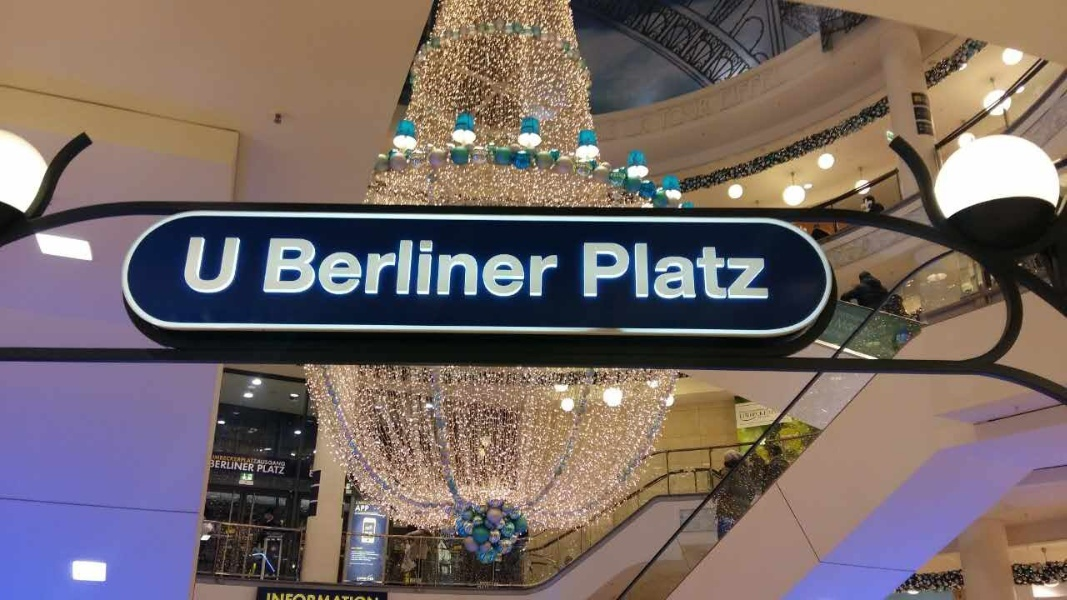text: (545, 239, 561, 298), (273, 239, 288, 298), (289, 239, 304, 298), (305, 239, 320, 298), (321, 239, 336, 298), (337, 239, 352, 298), (353, 239, 368, 298), (369, 239, 384, 298), (385, 239, 400, 298), (401, 239, 416, 298), (417, 239, 432, 298), (433, 239, 448, 298), (449, 239, 464, 298), (465, 239, 480, 298), (481, 239, 496, 298), (497, 239, 512, 298), (513, 239, 528, 298), (529, 239, 544, 298), (593, 243, 608, 300), (609, 243, 624, 300), (625, 243, 640, 300), (641, 243, 656, 300), (657, 243, 672, 300), (673, 243, 688, 300), (689, 243, 704, 300), (705, 243, 720, 300), (721, 243, 736, 300), (737, 243, 752, 300), (753, 243, 768, 300), (193, 237, 208, 293), (209, 237, 224, 293), (225, 237, 240, 293), (585, 243, 592, 300), (225, 455, 240, 468), (241, 455, 256, 468), (257, 455, 272, 468), (273, 455, 286, 468), (225, 461, 240, 472), (212, 455, 224, 468), (210, 461, 224, 472), (241, 461, 255, 472), (753, 411, 768, 421), (258, 465, 272, 475), (740, 411, 752, 421), (273, 465, 285, 475), (769, 243, 771, 300), (190, 237, 192, 293), (273, 595, 288, 600), (289, 595, 304, 600), (305, 595, 320, 600), (321, 595, 336, 600), (337, 595, 352, 600), (353, 595, 368, 600), (358, 506, 368, 512), (271, 239, 272, 298), (369, 595, 380, 600), (769, 411, 772, 421), (268, 595, 272, 600), (369, 506, 371, 512)
